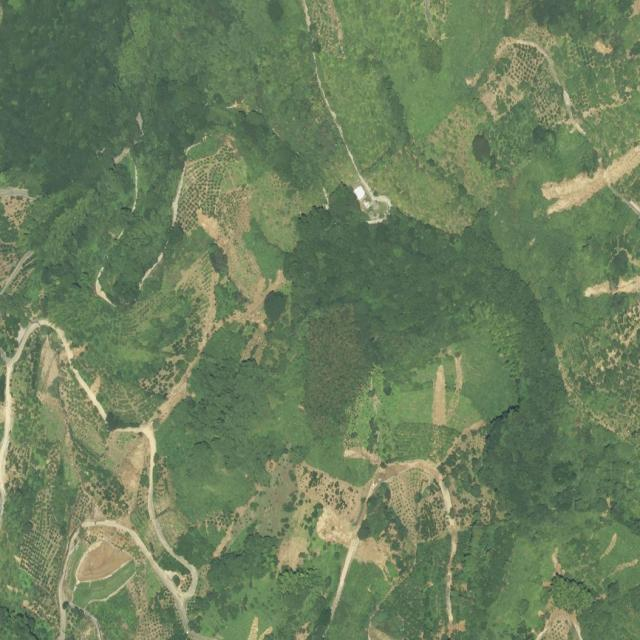landslide: (25, 135, 287, 639), (271, 451, 460, 638), (0, 316, 106, 541), (545, 176, 591, 211)
